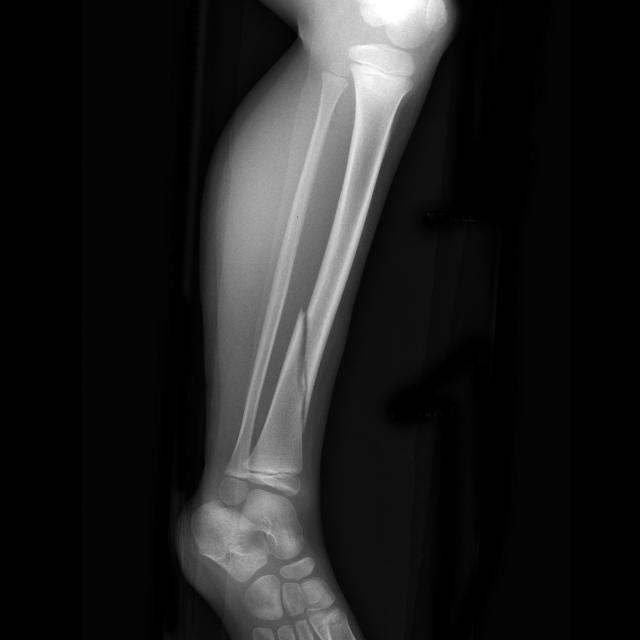bone: (276, 301, 348, 424)
